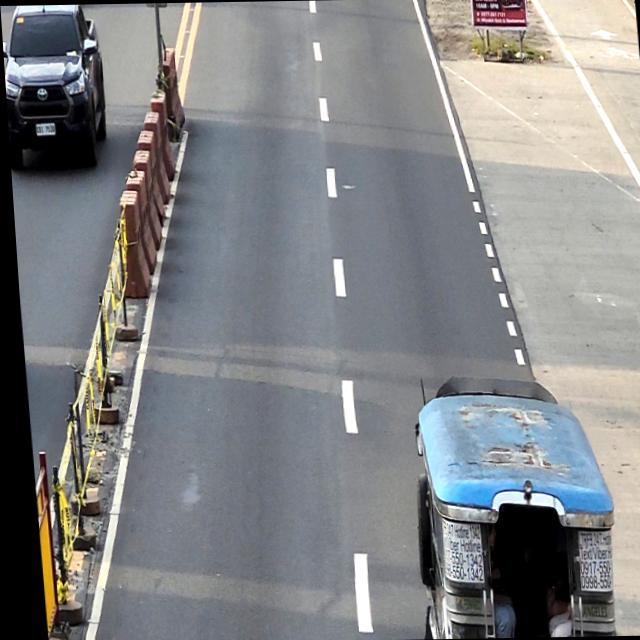Car: (0, 3, 107, 170)
Jeep: (401, 372, 616, 638)
License-Plate: (33, 123, 54, 135)
